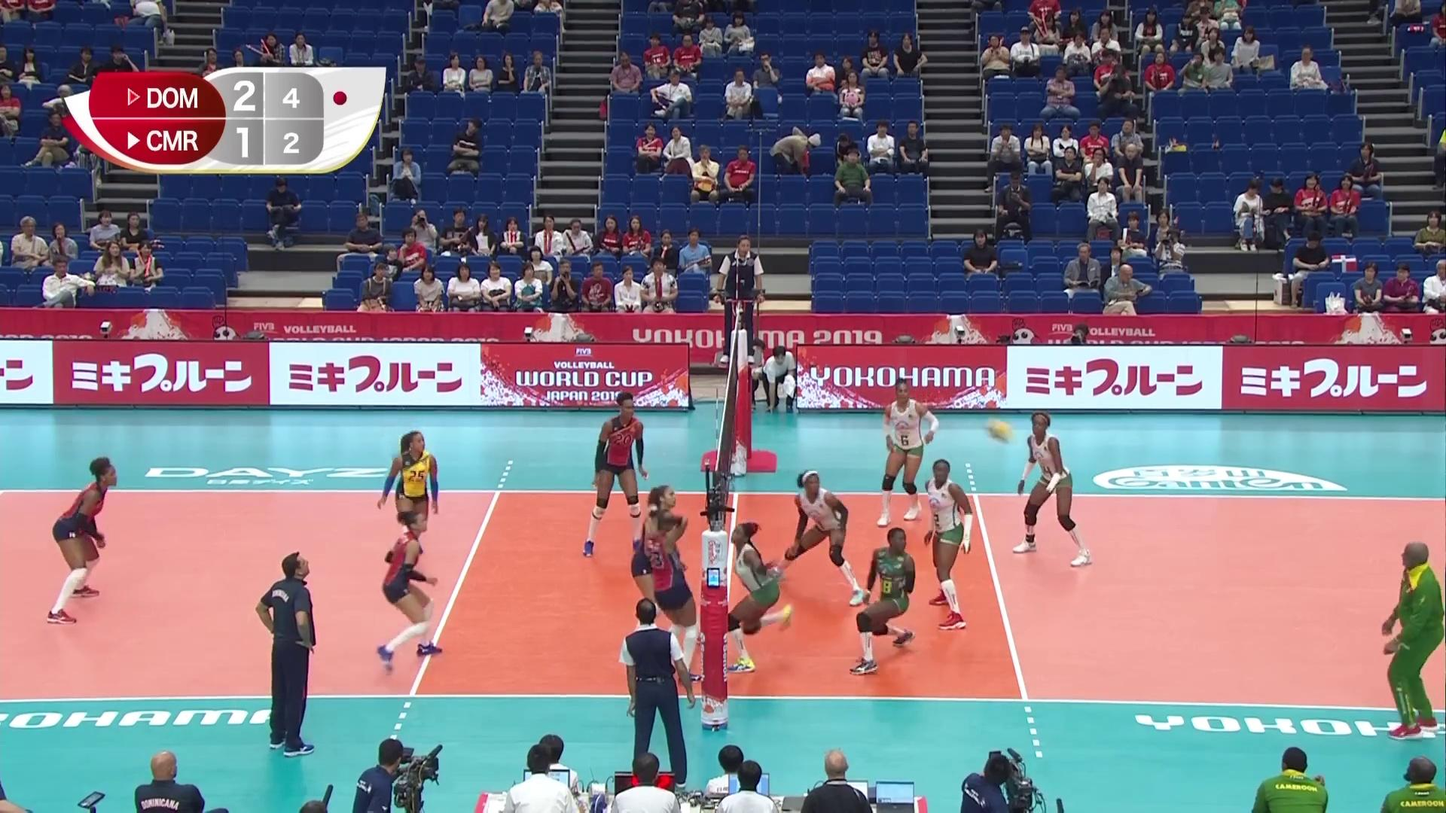player: (769, 472, 864, 607), (41, 459, 118, 624), (1020, 417, 1097, 566), (585, 396, 652, 556), (726, 521, 793, 676), (376, 432, 446, 578), (920, 460, 975, 635), (851, 531, 919, 670), (645, 513, 702, 675), (630, 485, 684, 653), (382, 512, 438, 665), (882, 377, 935, 528)
refree: (623, 598, 688, 783), (720, 234, 766, 367)
